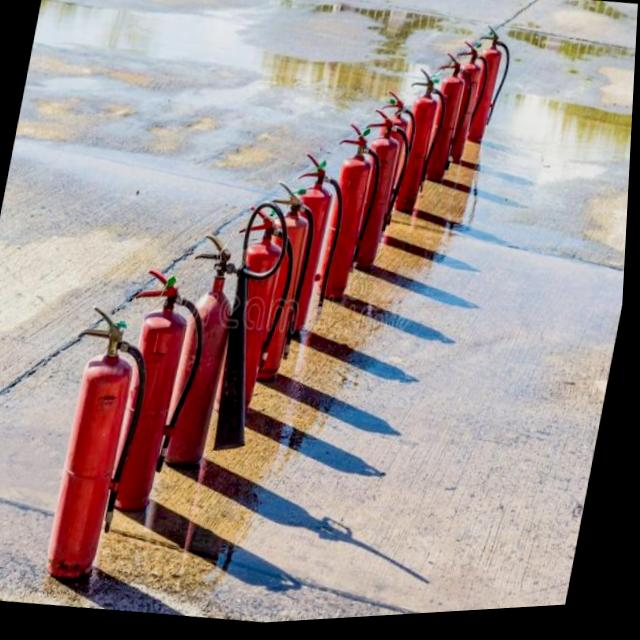FireExtinguisher: (149, 190, 299, 491), (34, 302, 166, 592), (96, 261, 220, 524), (203, 198, 313, 432), (235, 170, 331, 390), (264, 149, 357, 354), (308, 122, 391, 314), (340, 101, 421, 280), (354, 87, 431, 260), (382, 65, 458, 225), (430, 38, 497, 182), (417, 50, 472, 198), (458, 27, 518, 157)
